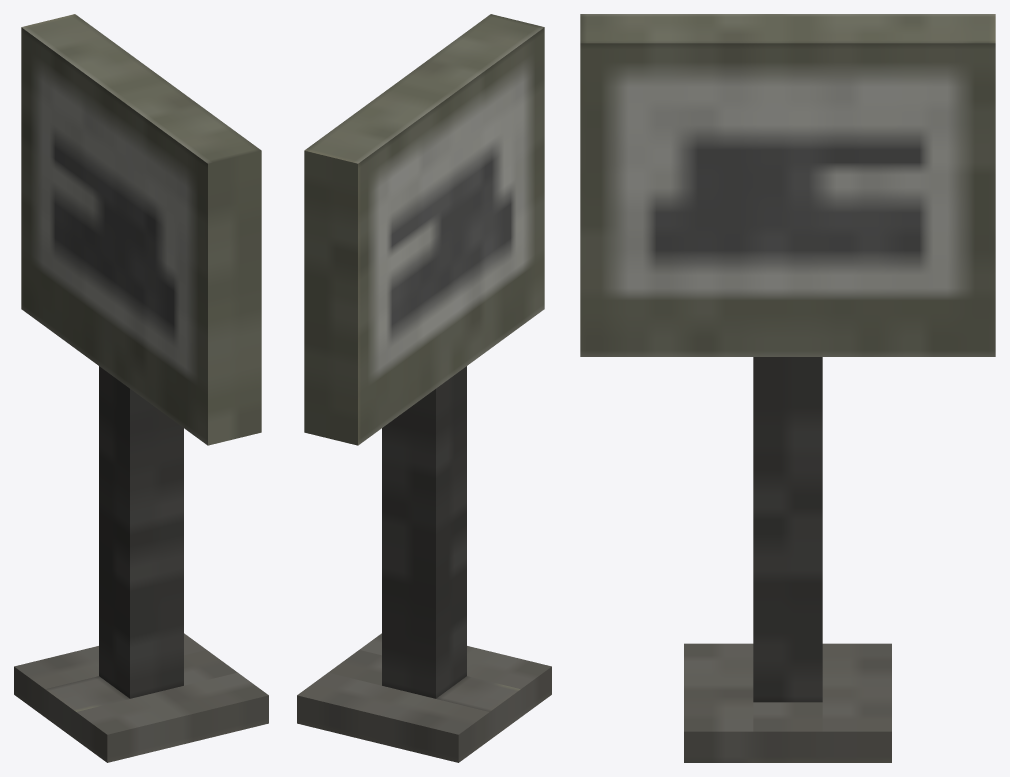
File: SignA.fbx
The picture shows the model from 3 angles, left to right: view 1: azimuth 30°, elevation 25°; view 2: azimuth 150°, elevation 25°; view 3: azimuth 270°, elevation 25°; orthographic projection. The views are drawn at different scales.
Parts seen in each view (by area): view 1: SignA; view 2: SignA; view 3: SignA.
Part boxes in pixels (left/top/right/bottom): SignA: left=14, top=14, right=268, bottom=762; SignA: left=297, top=14, right=551, bottom=762; SignA: left=580, top=14, right=995, bottom=762.
Bounding box in the file's own units: 6 × 22 × 12.
